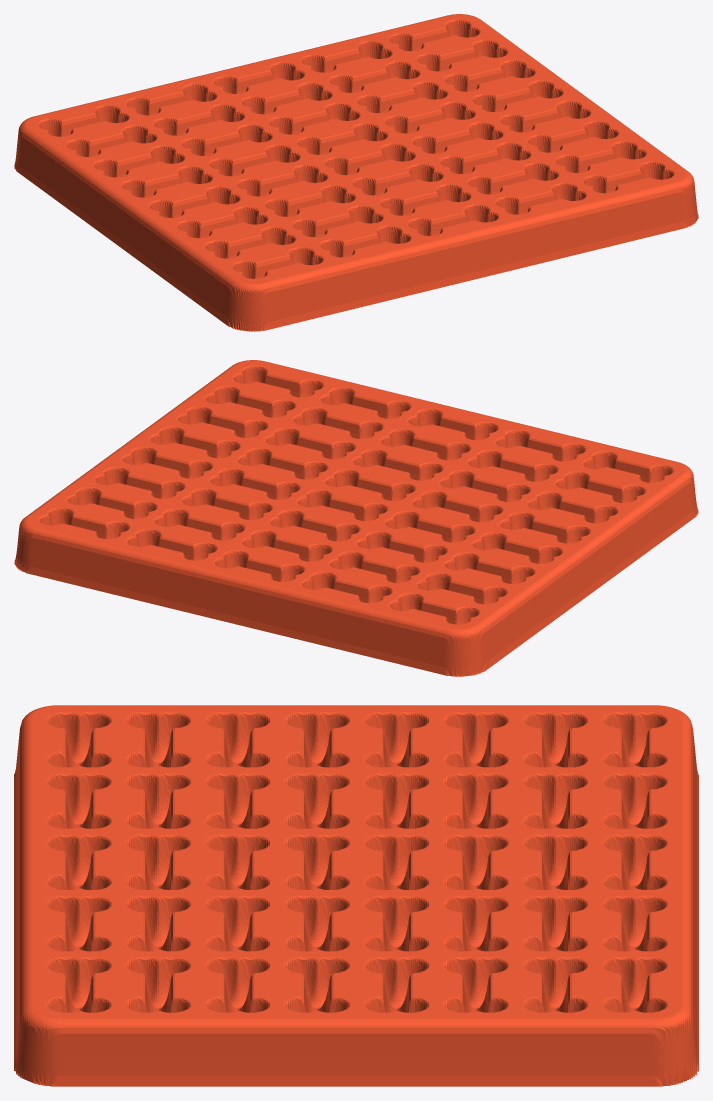
Rendered from mold.glb.
3 renders of one model, top to bottom at view 1: azimuth 30°, elevation 25°; view 2: azimuth 150°, elevation 25°; view 3: azimuth 270°, elevation 25°, orthographic. The views are drawn at different scales.
Visible parts, largest first — view 1: geometry_0; view 2: geometry_0; view 3: geometry_0.
Boxes of the visible parts, box(x1,y1,x2,y2) form: geometry_0: box(14, 14, 698, 331); geometry_0: box(14, 360, 698, 676); geometry_0: box(14, 705, 698, 1086).
Size of the model in its own units: 0.1571 by 0.0136 by 0.1389.
